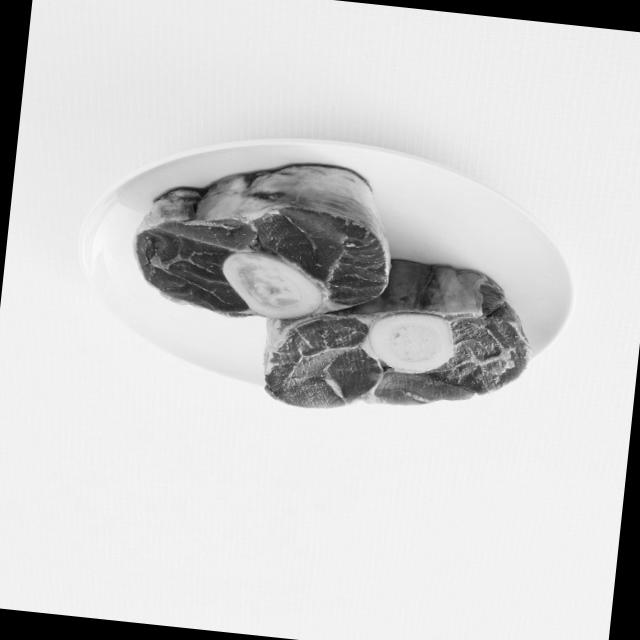chan gio: (124, 147, 546, 406)
